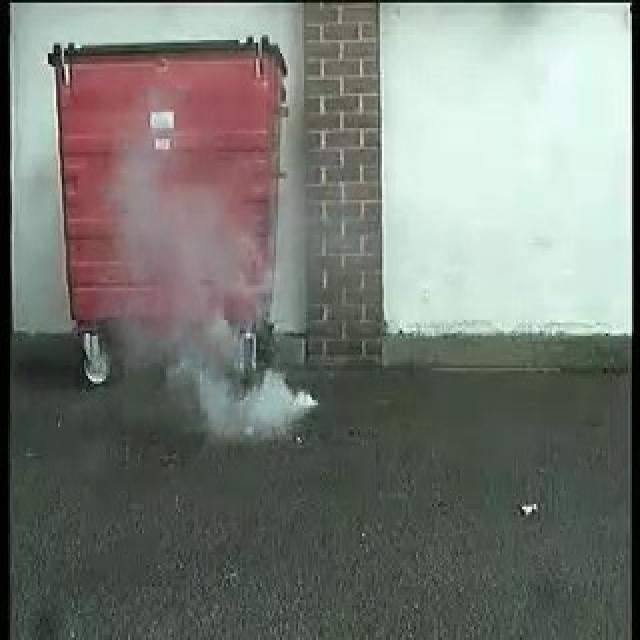smoke: (117, 173, 316, 442)
